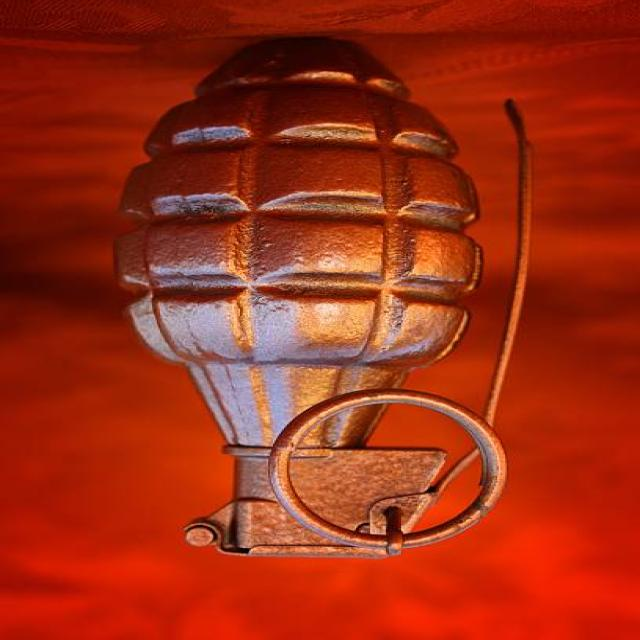grenade: (95, 36, 556, 572)
